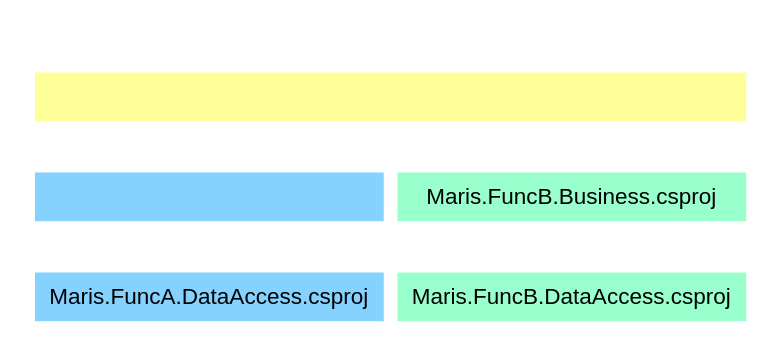
The diagram is 780 pixels wide and 355 high, and some of its shapes have lost their labels. The shapes that lost their labels are listed below. From the top down, each one's centre as x and y in pixels, then its label:
At (x=390, y=96): "Maris.Web.csproj".
At (x=208, y=196): "Maris.FuncA.Business.csproj".
